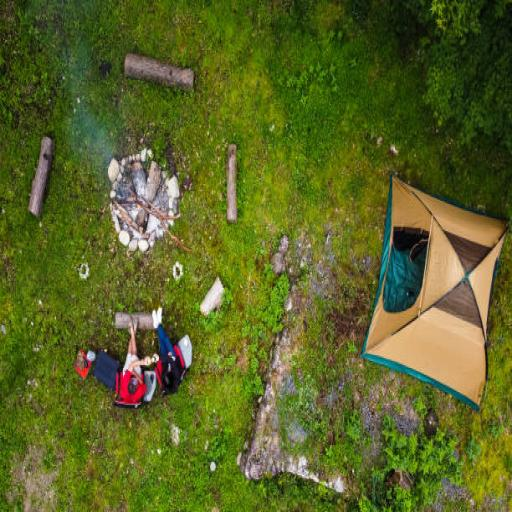Tent: (360, 177, 508, 405)
